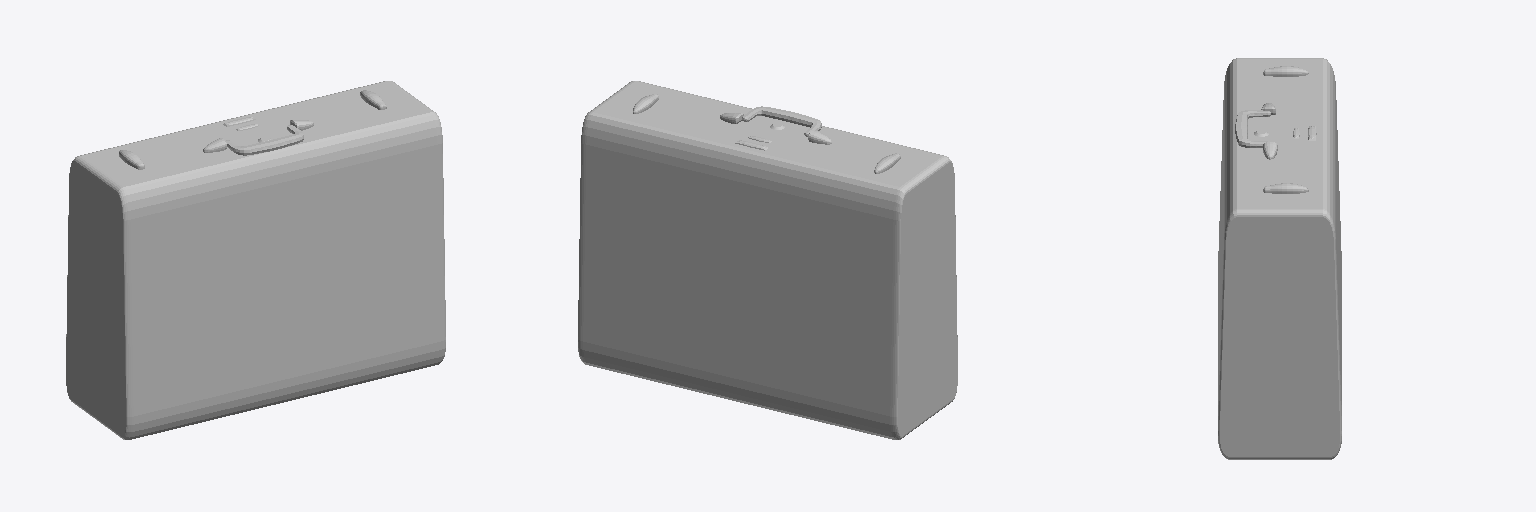
File: vintage suitcase.obj
3 views of the same model, side by side, from view 1: azimuth 30°, elevation 25°; view 2: azimuth 150°, elevation 25°; view 3: azimuth 270°, elevation 25° (orthographic).
Parts seen in each view (by area): view 1: Cube.002_Cube.062; view 2: Cube.002_Cube.062; view 3: Cube.002_Cube.062.
Part boxes in pixels (x1,y1,x2,y2): Cube.002_Cube.062: (66, 81, 445, 439); Cube.002_Cube.062: (578, 81, 957, 439); Cube.002_Cube.062: (1218, 58, 1341, 459).
Bounding box in the file's own units: 5.93 × 4.63 × 2.01.